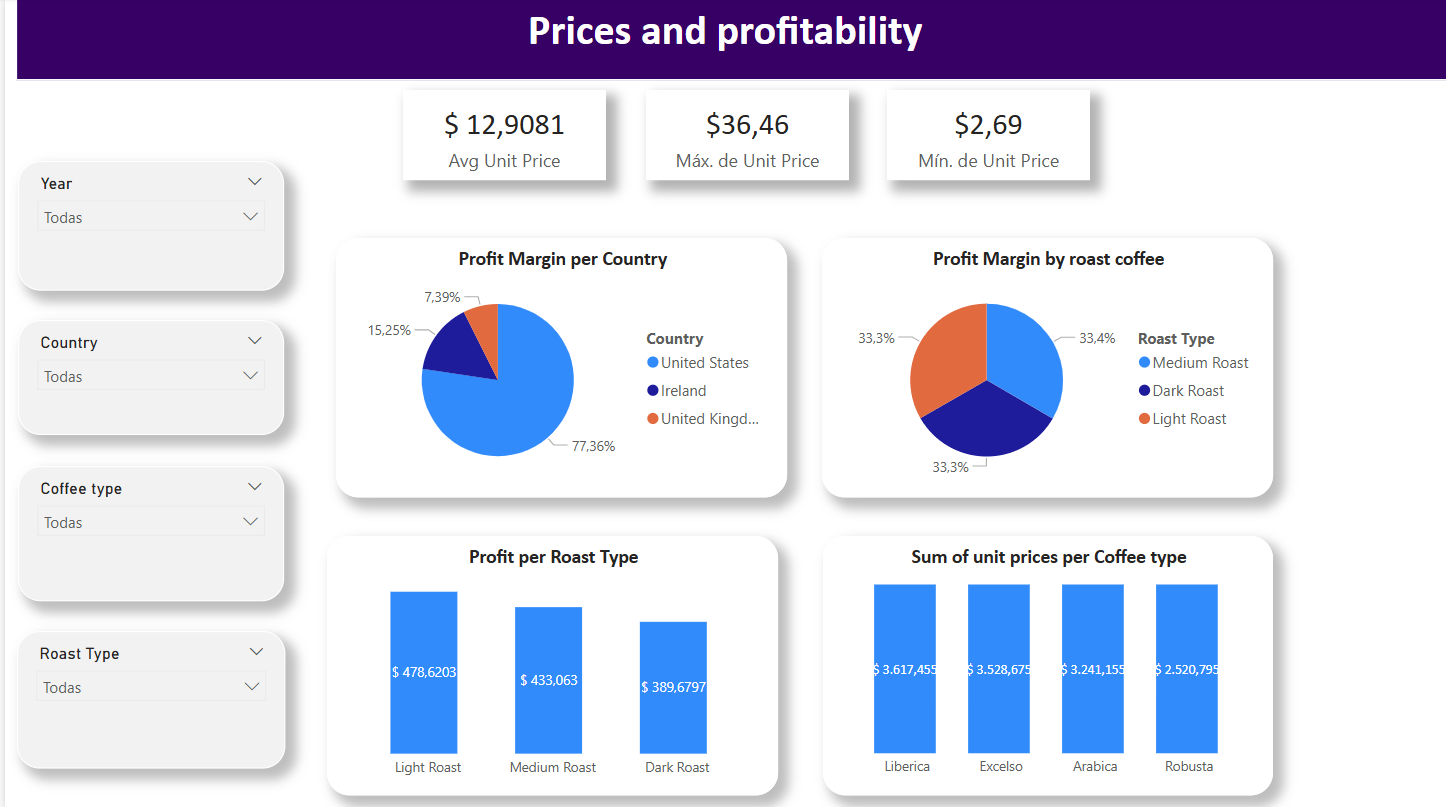

The page's visual inventory and layout, read from the dashboard file:
{"tool":"powerbi","page":{"name":"Página 3","canvas":[1280,720],"ordinal":2},"visuals":[{"type":"shape","box":[10,0,1270,72.8],"z":0},{"type":"textbox","box":[256.7,0,836.3,73.2],"z":1000},{"type":"pieChart","title":"Profit Margin per Country","fields":{"Category":["Combinar2.Country"],"Y":["Sum(Combinar2.Profit Margin (relative profit per product))"]},"box":[293.9,212.6,400,230],"z":2000},{"type":"pieChart","title":"Profit Margin by roast coffee","fields":{"Y":["CountNonNull(Combinar2.Quantity)"],"Category":["Combinar2.Roast Type"]},"box":[724.8,212.6,400,230],"z":4000},{"type":"clusteredColumnChart","title":"Profit per Roast Type","fields":{"Category":["Combinar2.Roast Type"],"Y":["Sum(Combinar2.Profit)"]},"box":[285.7,477.4,400,230],"z":5000},{"type":"group","id":"g1","title":"Grupo 1","box":[353.1,81.3,180,80.1],"z":6000},{"type":"group","id":"g2","title":"Grupo 1","box":[568,81.3,180,80.1],"z":7000},{"type":"group","id":"g3","title":"Grupo 1","box":[781.7,81.3,180,80.1],"z":8000},{"type":"card","fields":{"Values":["Avg(Combinar2.Unit Price)"]},"box":[353.1,81.3,180,80],"z":9000,"group":"g1"},{"type":"card","fields":{"Values":["Max(Data_products 33.Unit Price)"]},"box":[568,81.3,180,80],"z":9000,"group":"g2"},{"type":"card","fields":{"Values":["Min(Data_products 33.Unit Price)"]},"box":[781.7,81.3,180,80],"z":9000,"group":"g3"},{"type":"slicer","fields":{"Values":["Calendario.Year"]},"box":[11.9,144.2,235.8,115],"z":9000},{"type":"slicer","fields":{"Values":["Combinar2.Country"]},"box":[11.9,285.8,235.8,102.2],"z":10000},{"type":"slicer","fields":{"Values":["Data_products 33.Coffee type"]},"box":[11.9,414.7,235.8,119.6],"z":11000},{"type":"slicer","fields":{"Values":["Combinar2.Roast Type"]},"box":[10.7,561,238.1,122],"z":12000},{"type":"clusteredColumnChart","title":"Sum of unit prices per Coffee type","fields":{"Y":["Sum(Combinar2.Unit Price)"],"Category":["Combinar2.Coffee Type"]},"box":[725.3,477,399,229.7],"z":12001}]}

Visuals, with their boxes in screenshot pixels (x1, y1, x2, y2), scaled from the page's 1280x720 canvas onto the 1446x807 screenshot:
shape: (11,0,1445,82)
textbox: (290,0,1235,82)
"Profit Margin per Country" pieChart: (332,238,784,496)
"Profit Margin by roast coffee" pieChart: (819,238,1271,496)
"Profit per Roast Type" clusteredColumnChart: (323,535,775,793)
"Grupo 1" group: (399,91,602,181)
"Grupo 1" group: (642,91,845,181)
"Grupo 1" group: (883,91,1086,181)
card - Avg(Combinar2.Unit Price): (399,91,602,181)
card - Max(Data_products 33.Unit Price): (642,91,845,181)
card - Min(Data_products 33.Unit Price): (883,91,1086,181)
slicer - Calendario.Year: (13,162,280,291)
slicer - Combinar2.Country: (13,320,280,435)
slicer - Data_products 33.Coffee type: (13,465,280,599)
slicer - Combinar2.Roast Type: (12,629,281,766)
"Sum of unit prices per Coffee type" clusteredColumnChart: (819,535,1270,792)
